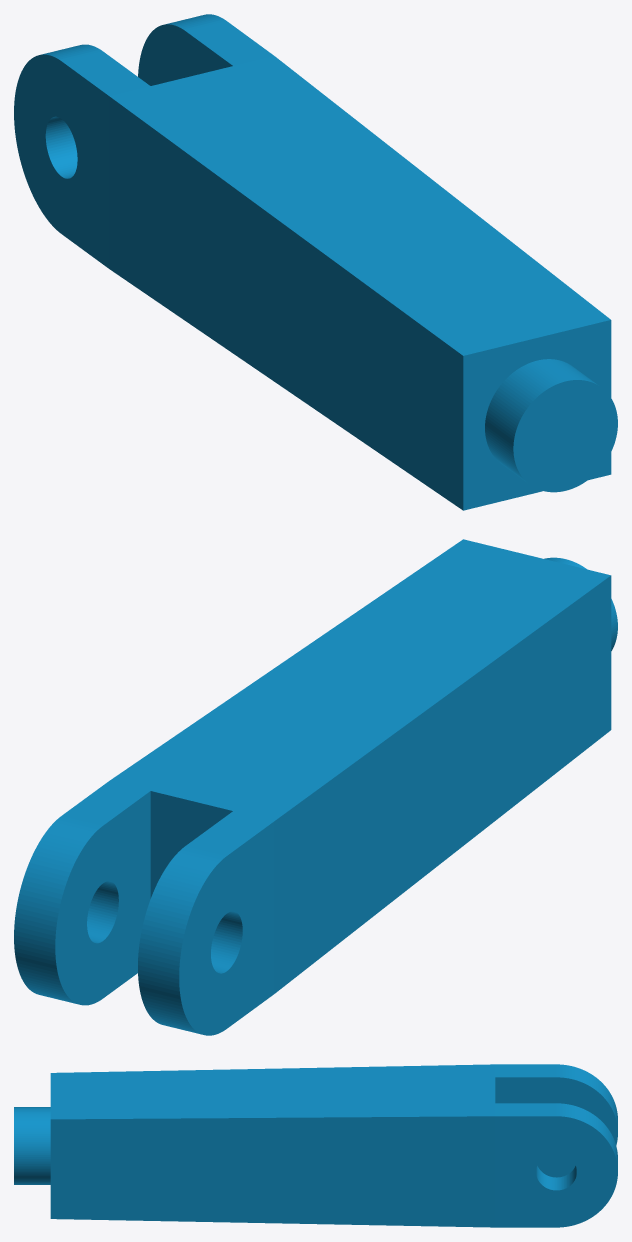
The picture shows the model from 3 angles, top to bottom: view 1: azimuth 30°, elevation 25°; view 2: azimuth 150°, elevation 25°; view 3: azimuth 270°, elevation 25°; orthographic projection. The views are drawn at different scales.
Parts seen in each view (by area): view 1: node; view 2: node; view 3: node.
Part boxes in pixels (box(x1,y1,x2,y2)): node: box(14, 14, 617, 510); node: box(14, 539, 617, 1035); node: box(14, 1064, 617, 1227).
Bounding box in the file's own units: 0.069 × 0.069 × 0.3396.
